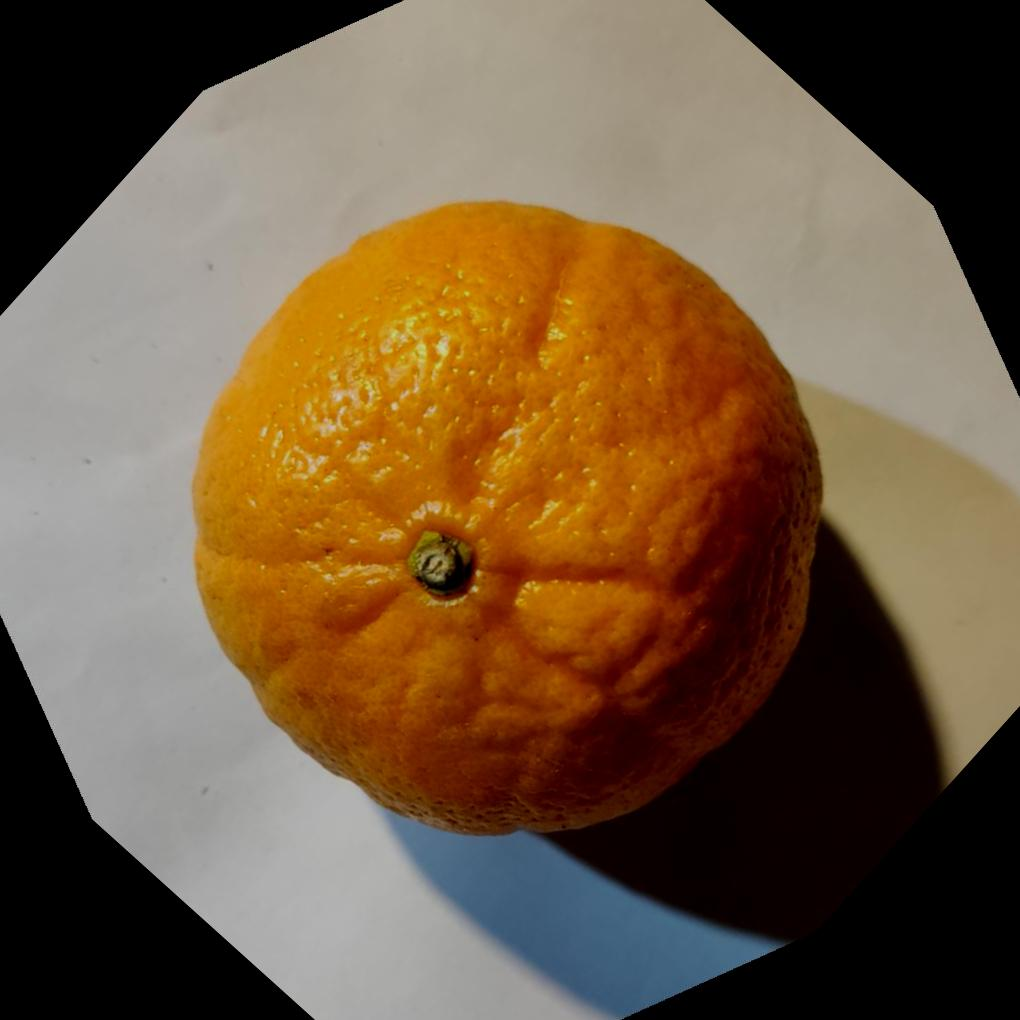FreshGuava: (190, 194, 827, 836)
